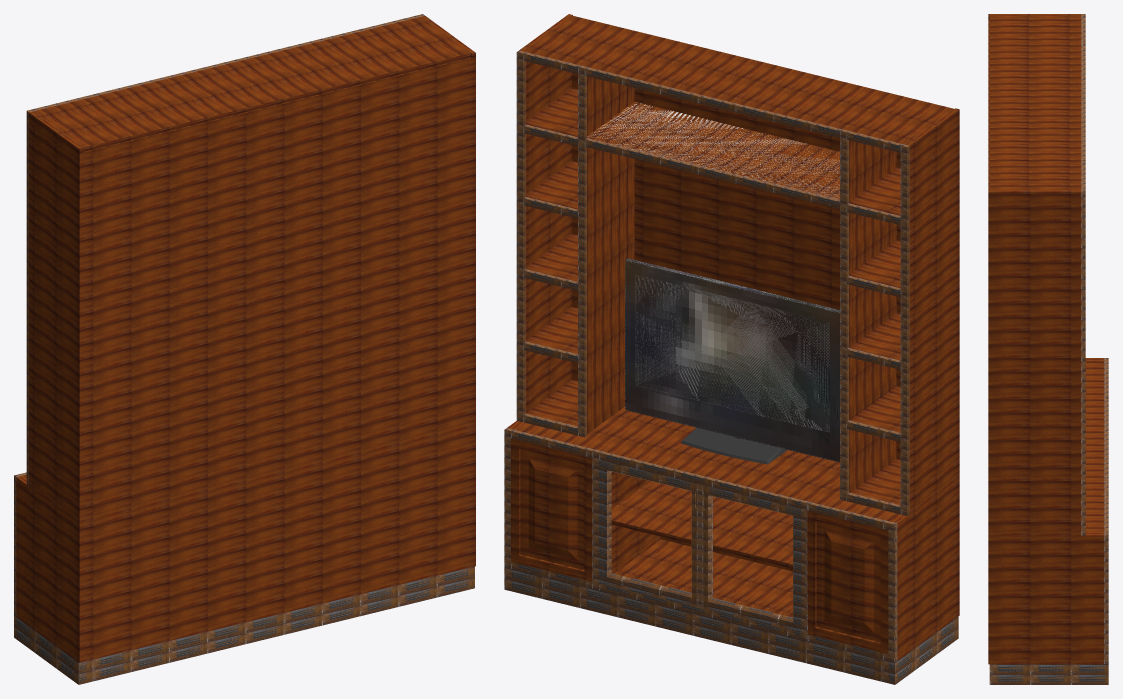
3 renders of one model, left to right at view 1: azimuth 30°, elevation 25°; view 2: azimuth 150°, elevation 25°; view 3: azimuth 270°, elevation 25°, orthographic. The views are drawn at different scales.
Parts seen in each view (by area): view 1: mesh52_mesh52-geometry, mesh21_mesh21-geometry, mesh23_mesh23-geometry, mesh27_mesh27-geometry, mesh11_mesh11-geometry, mesh50_mesh50-geometry, mesh54_mesh54-geometry; view 2: mesh52_mesh52-geometry, mesh73_mesh73-geometry, mesh23_mesh23-geometry, mesh15_mesh15-geometry, mesh50_mesh50-geometry, mesh74_mesh74-geometry, mesh7_mesh7-geometry, mesh27_mesh27-geometry, mesh58_mesh58-geometry, mesh62_mesh62-geometry, mesh11_mesh11-geometry, mesh5_mesh5-geometry (+14 smaller); view 3: mesh23_mesh23-geometry, mesh52_mesh52-geometry, mesh13_mesh13-geometry, mesh7_mesh7-geometry, mesh27_mesh27-geometry, mesh50_mesh50-geometry, mesh40_mesh40-geometry, mesh54_mesh54-geometry, mesh19_mesh19-geometry, mesh21_mesh21-geometry, mesh56_mesh56-geometry.
Part boxes in pixels (x1,y1,x2,y2): mesh52_mesh52-geometry: [33, 17, 475, 523]; mesh21_mesh21-geometry: [78, 426, 475, 662]; mesh23_mesh23-geometry: [29, 16, 474, 522]; mesh27_mesh27-geometry: [14, 566, 474, 684]; mesh11_mesh11-geometry: [16, 476, 78, 661]; mesh50_mesh50-geometry: [26, 14, 424, 485]; mesh54_mesh54-geometry: [95, 31, 355, 95]; mesh52_mesh52-geometry: [523, 14, 959, 477]; mesh73_mesh73-geometry: [625, 258, 839, 462]; mesh23_mesh23-geometry: [519, 14, 958, 513]; mesh15_mesh15-geometry: [587, 76, 896, 492]; mesh50_mesh50-geometry: [516, 50, 909, 515]; mesh74_mesh74-geometry: [587, 102, 839, 199]; mesh7_mesh7-geometry: [511, 407, 902, 522]; mesh27_mesh27-geometry: [504, 567, 958, 684]; mesh58_mesh58-geometry: [511, 438, 592, 581]; mesh62_mesh62-geometry: [807, 510, 888, 653]; mesh11_mesh11-geometry: [894, 479, 958, 660]; mesh5_mesh5-geometry: [611, 481, 792, 568]; mesh23_mesh23-geometry: [989, 14, 1081, 535]; mesh52_mesh52-geometry: [988, 14, 1081, 535]; mesh13_mesh13-geometry: [989, 534, 1104, 664]; mesh7_mesh7-geometry: [1085, 359, 1104, 533]; mesh27_mesh27-geometry: [989, 664, 1108, 684]; mesh50_mesh50-geometry: [1081, 14, 1085, 535]; mesh40_mesh40-geometry: [1104, 492, 1108, 664]; mesh54_mesh54-geometry: [1081, 44, 1085, 160]; mesh19_mesh19-geometry: [1104, 400, 1108, 492]; mesh21_mesh21-geometry: [988, 535, 989, 664]; mesh56_mesh56-geometry: [1081, 17, 1085, 188].
Bounding box in the file's own units: 0.6028 × 0.7791 × 0.1722.
